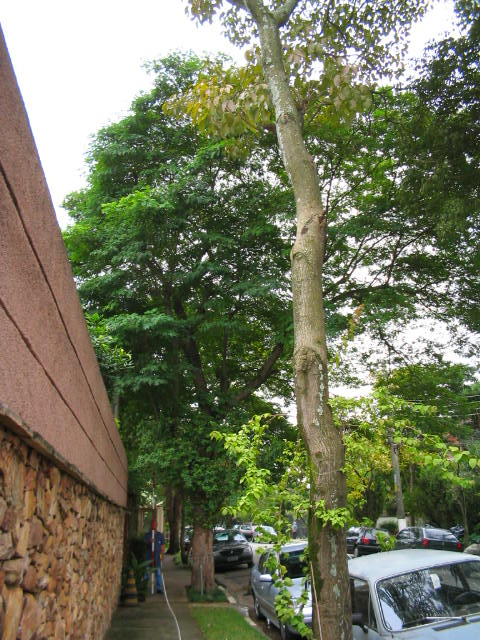crown: (101, 144, 291, 409)
stem: (174, 488, 237, 604)
stick: (143, 470, 163, 595)
tree: (98, 142, 294, 603)
